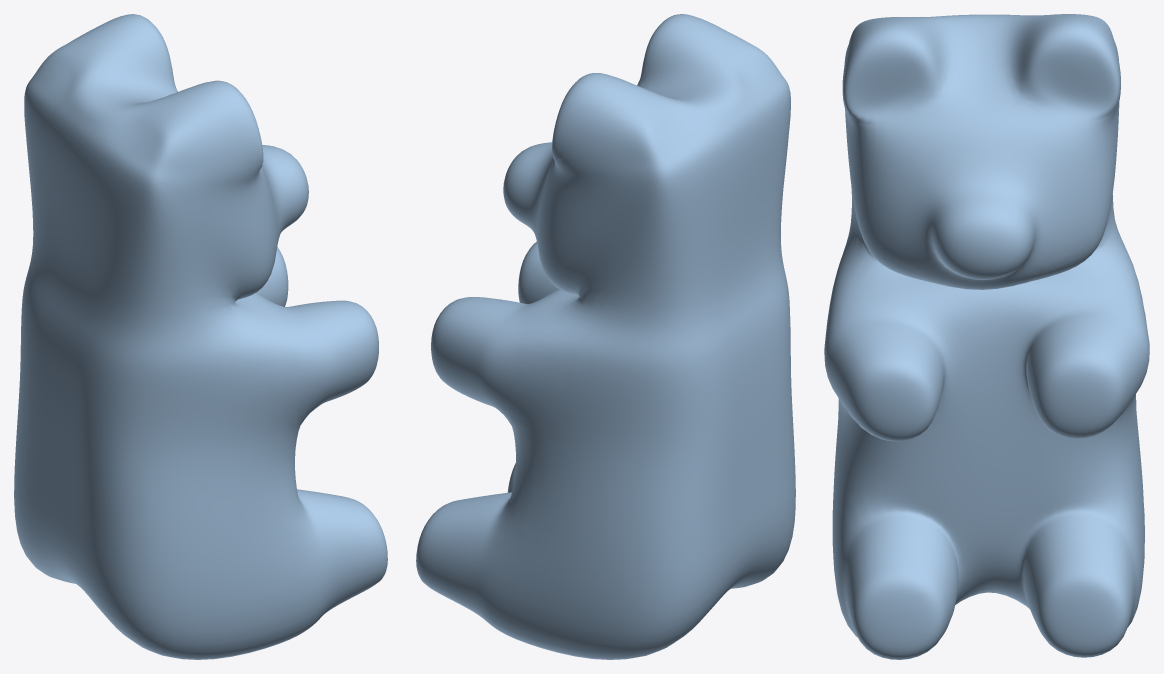
The model's file is bear.gltf.
The picture shows the model from 3 angles, left to right: view 1: azimuth 30°, elevation 25°; view 2: azimuth 150°, elevation 25°; view 3: azimuth 270°, elevation 25°; orthographic projection. The views are drawn at different scales.
Visible parts, largest first — view 1: Gummy Bear.fav.004; view 2: Gummy Bear.fav.004; view 3: Gummy Bear.fav.004.
Boxes of the visible parts, x1,y1,x2,y2 form: Gummy Bear.fav.004: (14, 14, 387, 659); Gummy Bear.fav.004: (416, 14, 795, 659); Gummy Bear.fav.004: (824, 14, 1149, 659).
Bounding box in the file's own units: 2.18 × 4.29 × 2.14.
